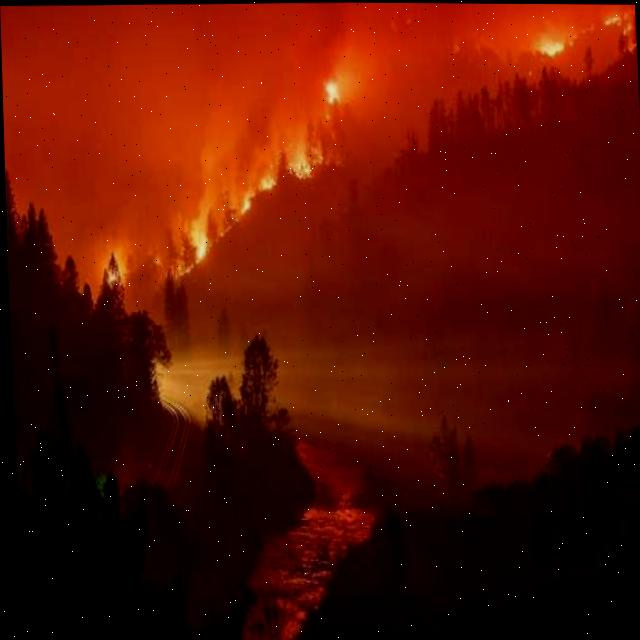fire: (188, 133, 319, 263)
smoke: (0, 2, 640, 484)
